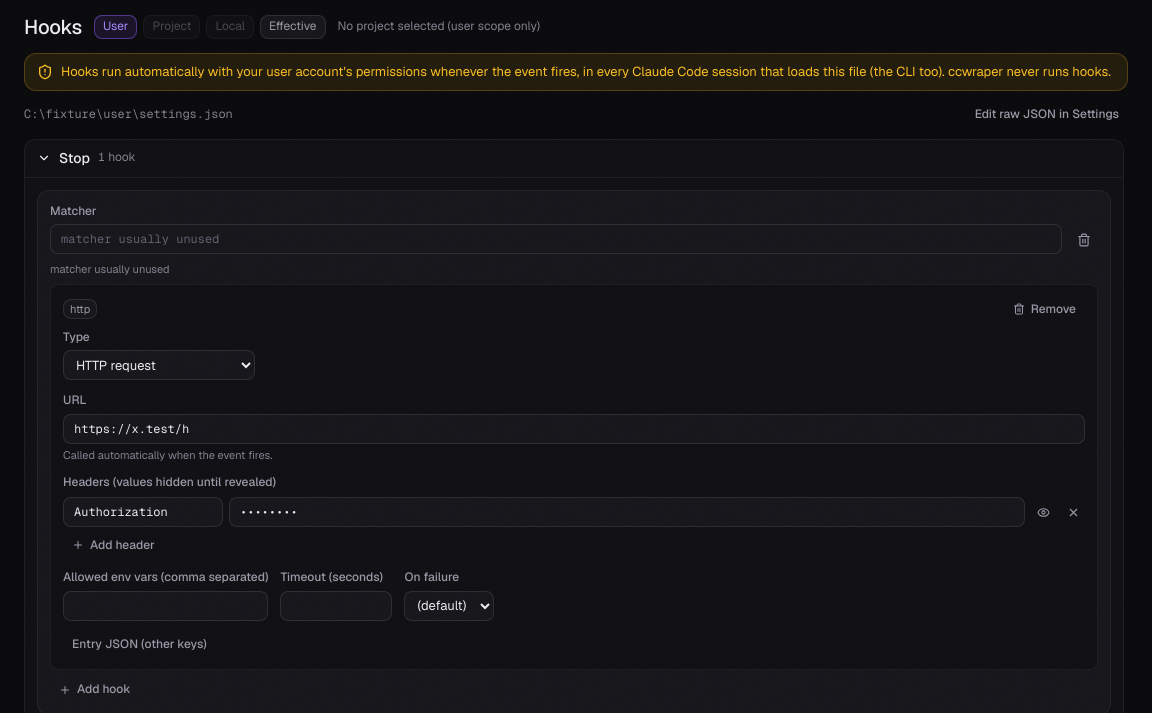
Test: HooksPage http headers › the confirm dialog lists the URL but not header values
Replace the text in the field showing "https://x.test/h" with "https://x.test/new" at (574, 429), box [63,414,1085,444]
(page scrolled)
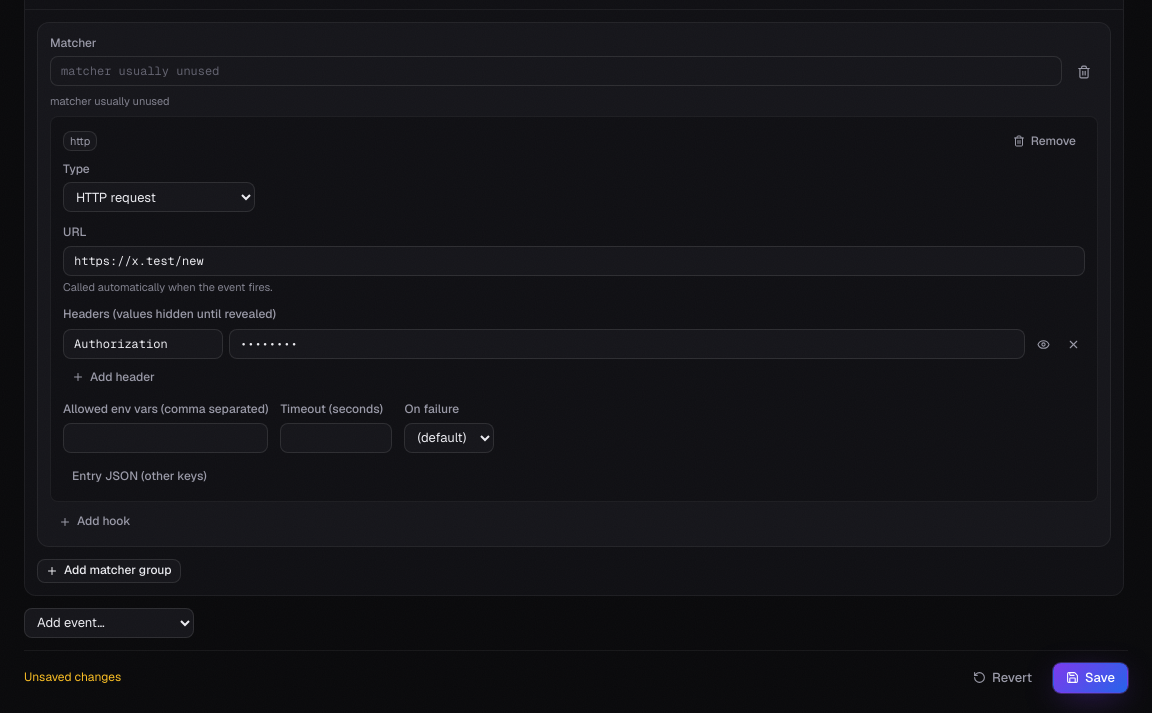
Click the button "Save".
click(1090, 678)  # box [1053,662,1128,692]
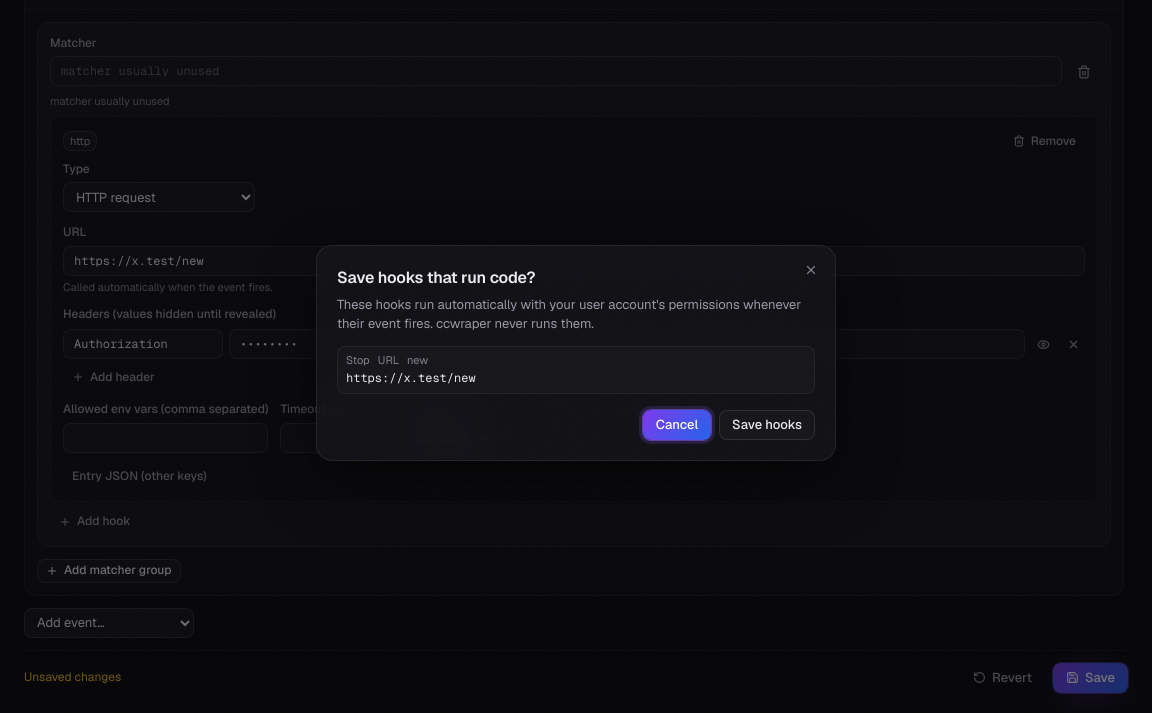
Result: the dialog shows "https://x.test/new" at [346,370,476,386]
